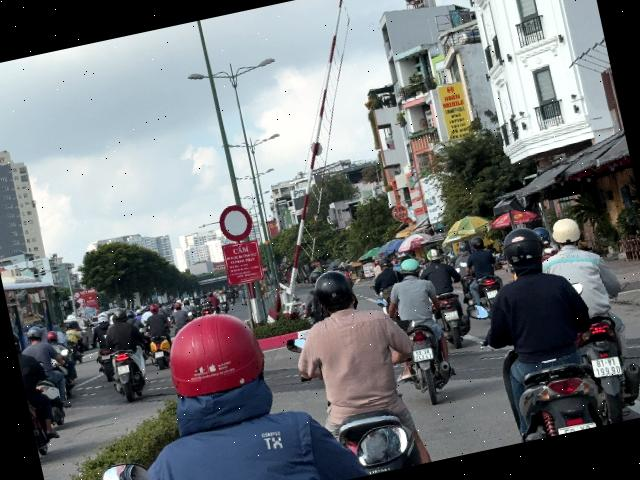duong-cam: (214, 201, 256, 245)
